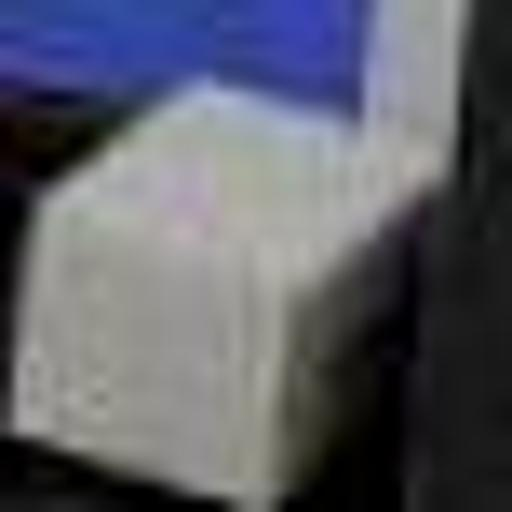Other: (22, 84, 407, 504)
